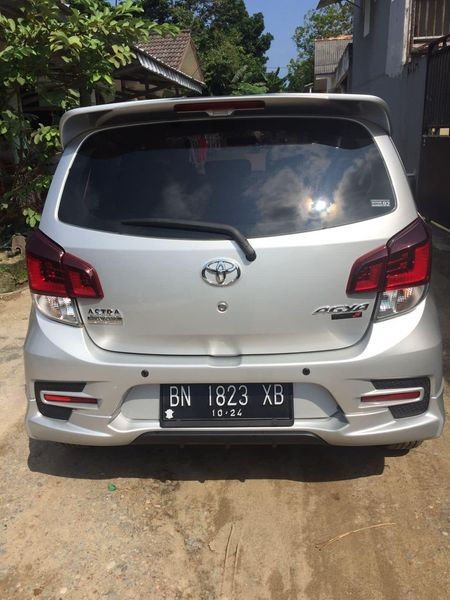plate: (157, 377, 302, 434)
